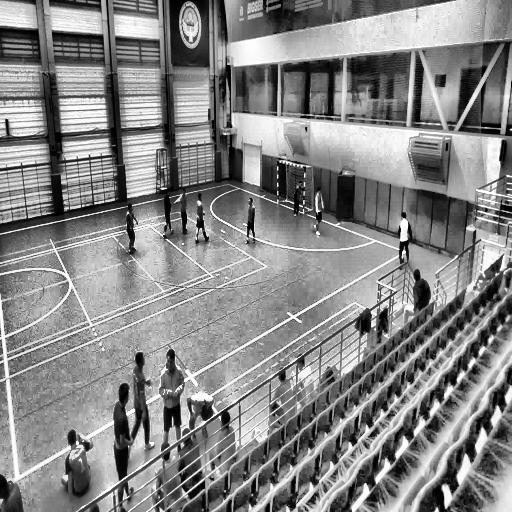ball: (400, 254, 405, 262)
player: (158, 349, 186, 452), (112, 382, 134, 509), (62, 428, 93, 507), (194, 192, 210, 246), (398, 212, 412, 268), (126, 202, 138, 255), (177, 186, 189, 236), (312, 186, 323, 237), (245, 196, 256, 245), (163, 189, 174, 238), (293, 180, 304, 218)
